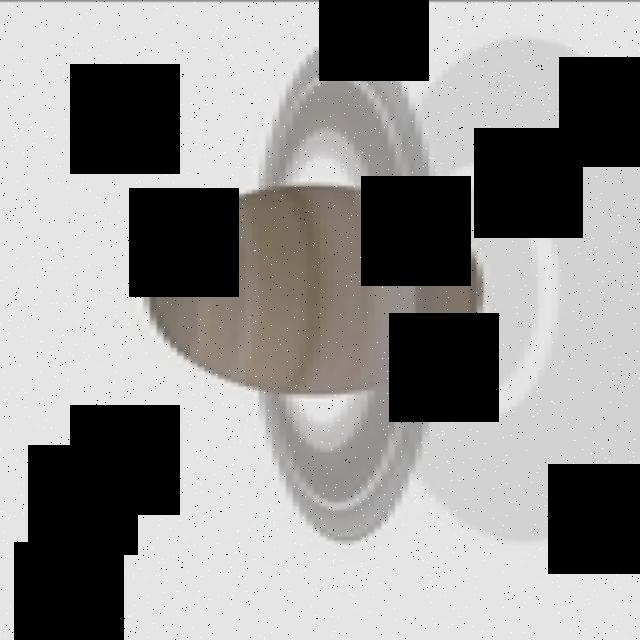Saturn: (138, 33, 486, 544)
